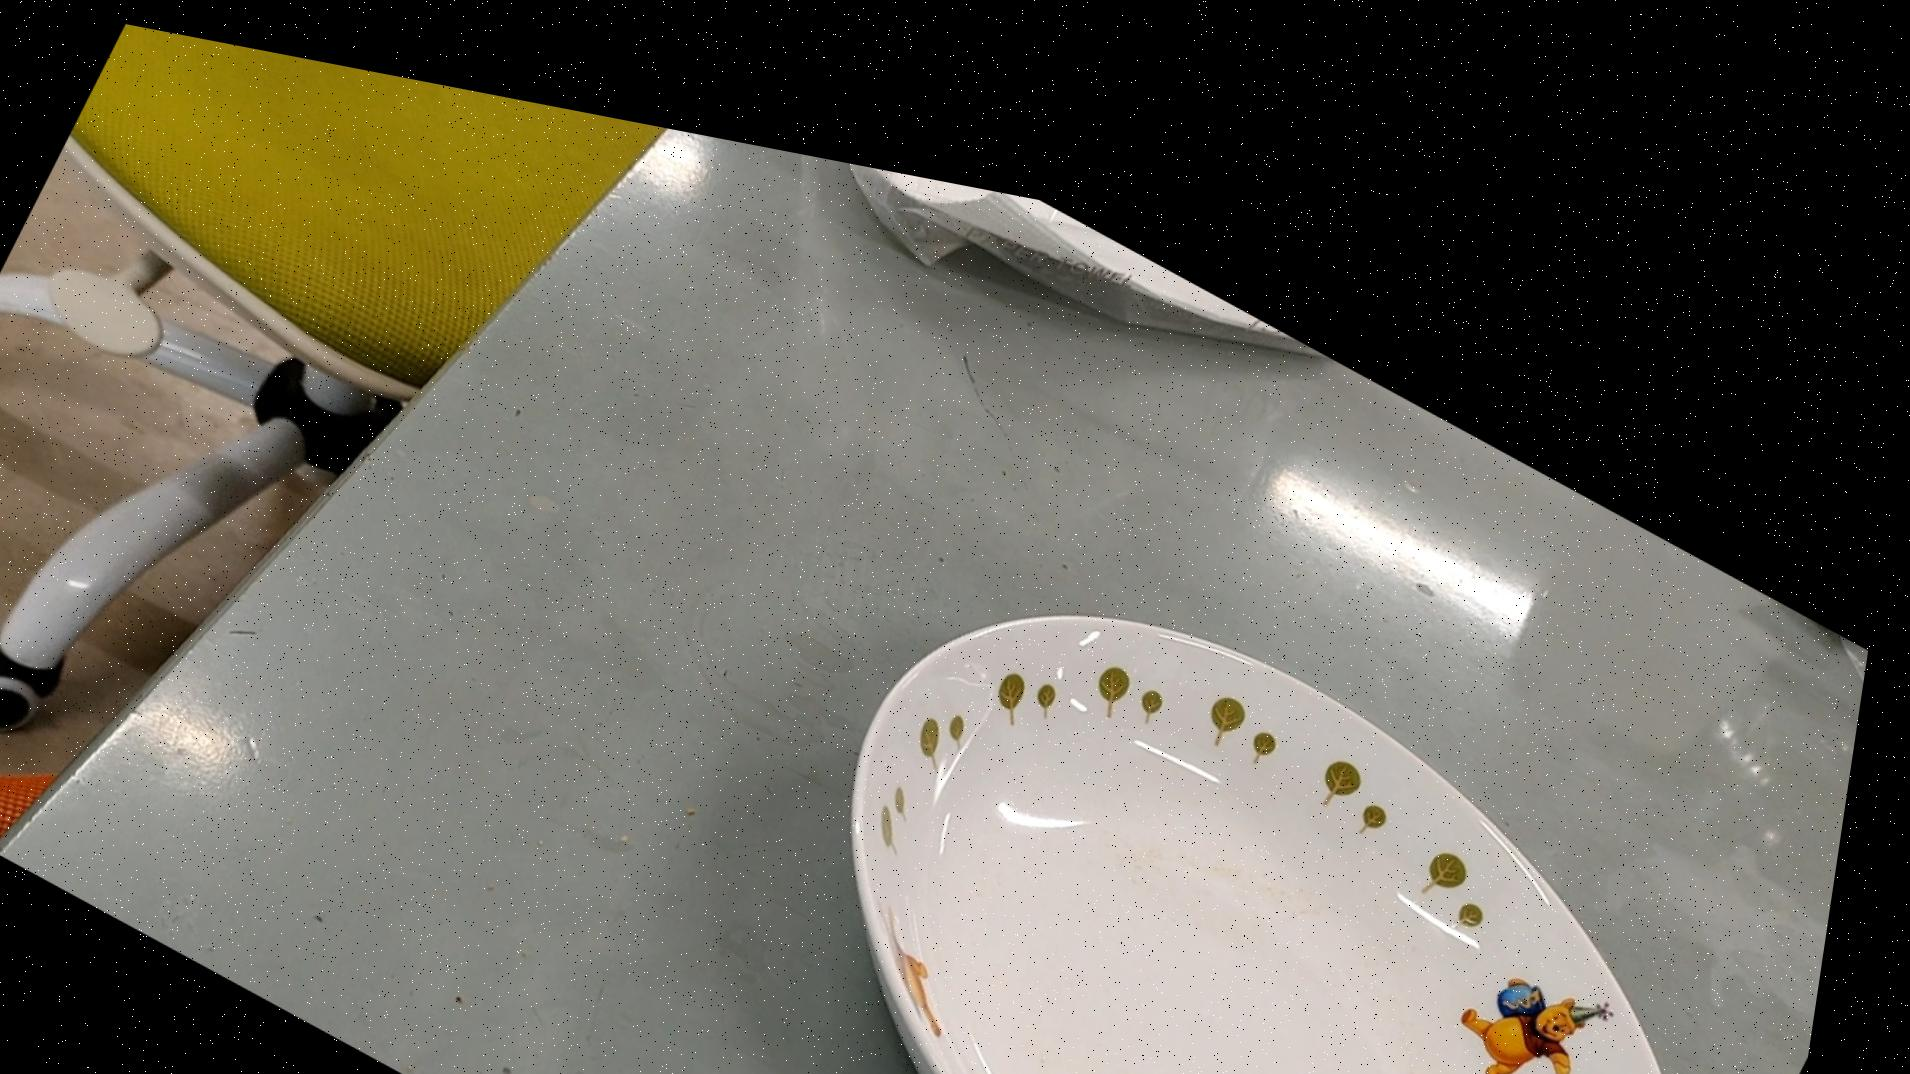plate: (707, 437, 1873, 1074)
